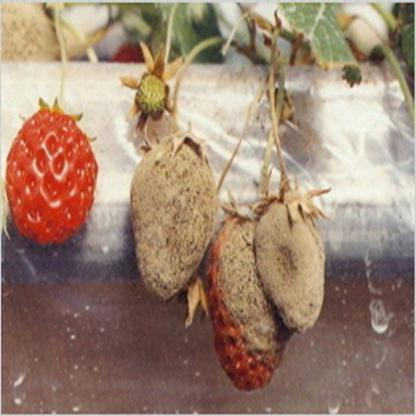Strawberry_Gray_Mold: (204, 191, 296, 385), (128, 120, 216, 304), (248, 170, 334, 334)
